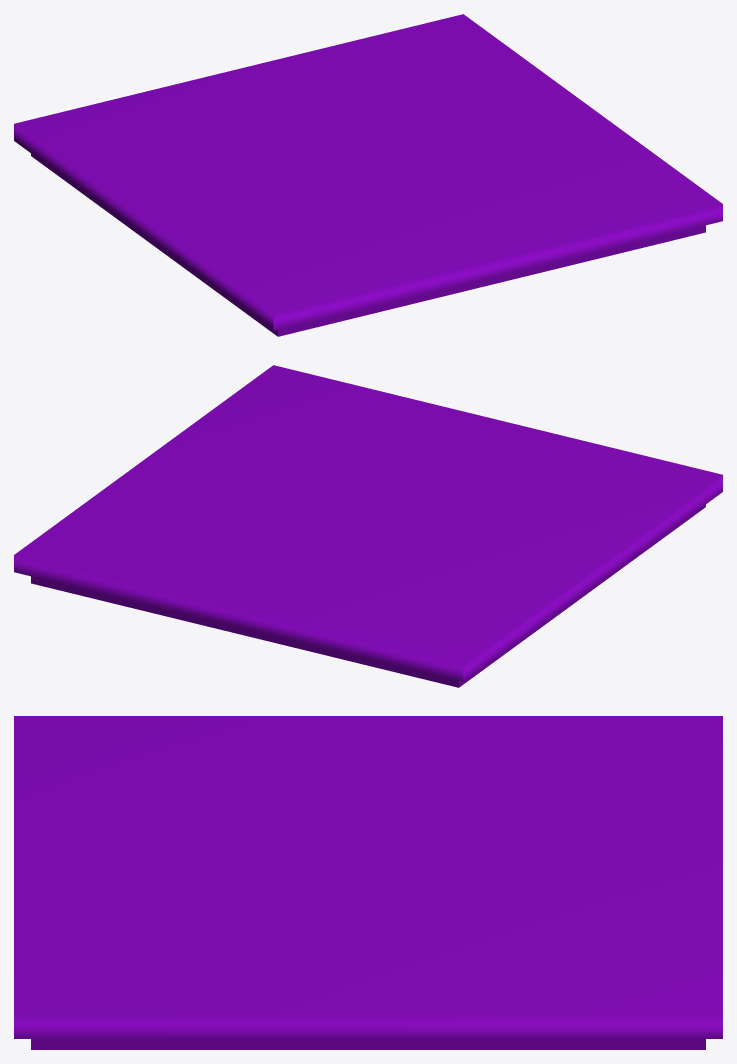
File: Building_Medium_Roof_001.fbx
3 renders of one model, top to bottom at view 1: azimuth 30°, elevation 25°; view 2: azimuth 150°, elevation 25°; view 3: azimuth 270°, elevation 25°, orthographic. The views are drawn at different scales.
Parts seen in each view (by area): view 1: Building_Medium_Roof_001; view 2: Building_Medium_Roof_001; view 3: Building_Medium_Roof_001.
Boxes of the visible parts, x1,y1,x2,y2 form: Building_Medium_Roof_001: (14,14,722,336); Building_Medium_Roof_001: (14,365,722,687); Building_Medium_Roof_001: (14,716,722,1049).
Size of the model in its own units: 6720 by 432 by 6720.
